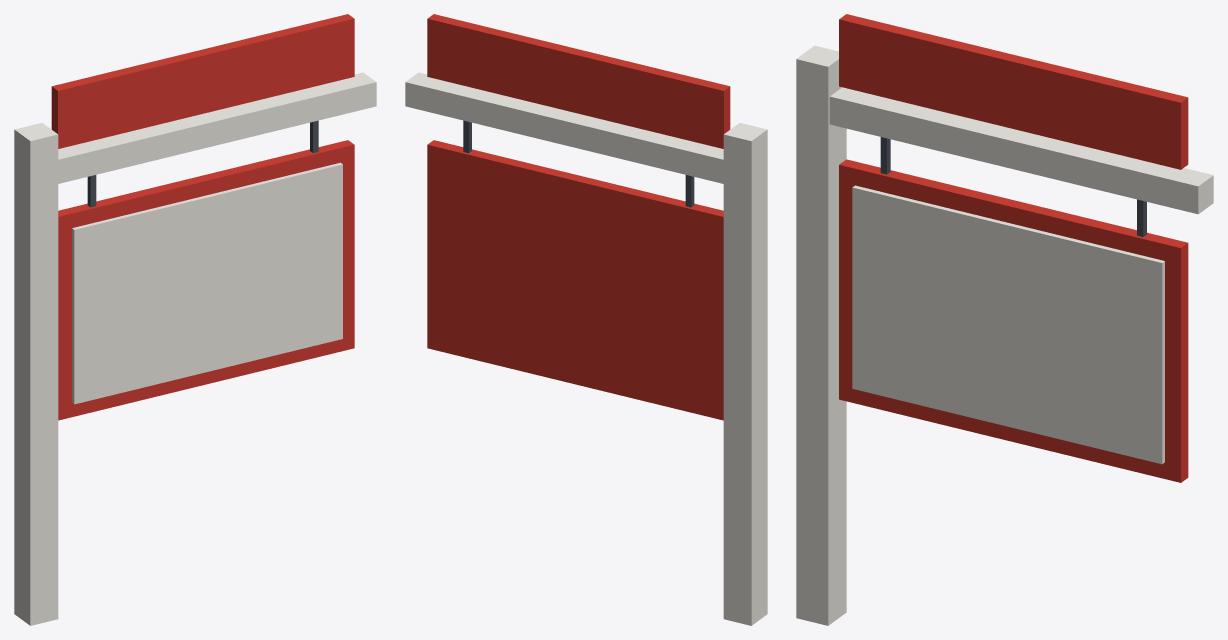
The model's file is PRP_YardSign.fbx.
3 views of the same model, side by side, from view 1: azimuth 30°, elevation 25°; view 2: azimuth 150°, elevation 25°; view 3: azimuth 330°, elevation 25° (orthographic). The views are drawn at different scales.
Parts seen in each view (by area): view 1: PRP_YardSign; view 2: PRP_YardSign; view 3: PRP_YardSign.
Boxes of the visible parts, box(x1,y1,x2,y2) form: PRP_YardSign: box(14, 14, 376, 625); PRP_YardSign: box(405, 14, 767, 625); PRP_YardSign: box(796, 14, 1213, 625).
Size of the model in its own units: 3.75 by 5.4 by 0.3.
